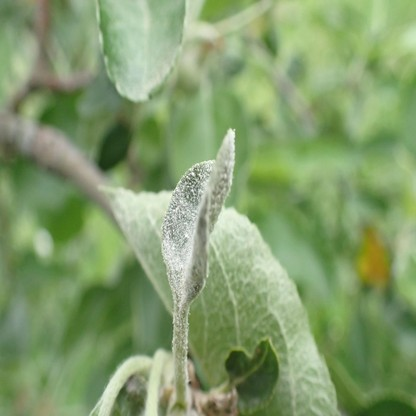powder: (98, 189, 342, 416), (162, 125, 236, 304), (102, 1, 183, 97)
